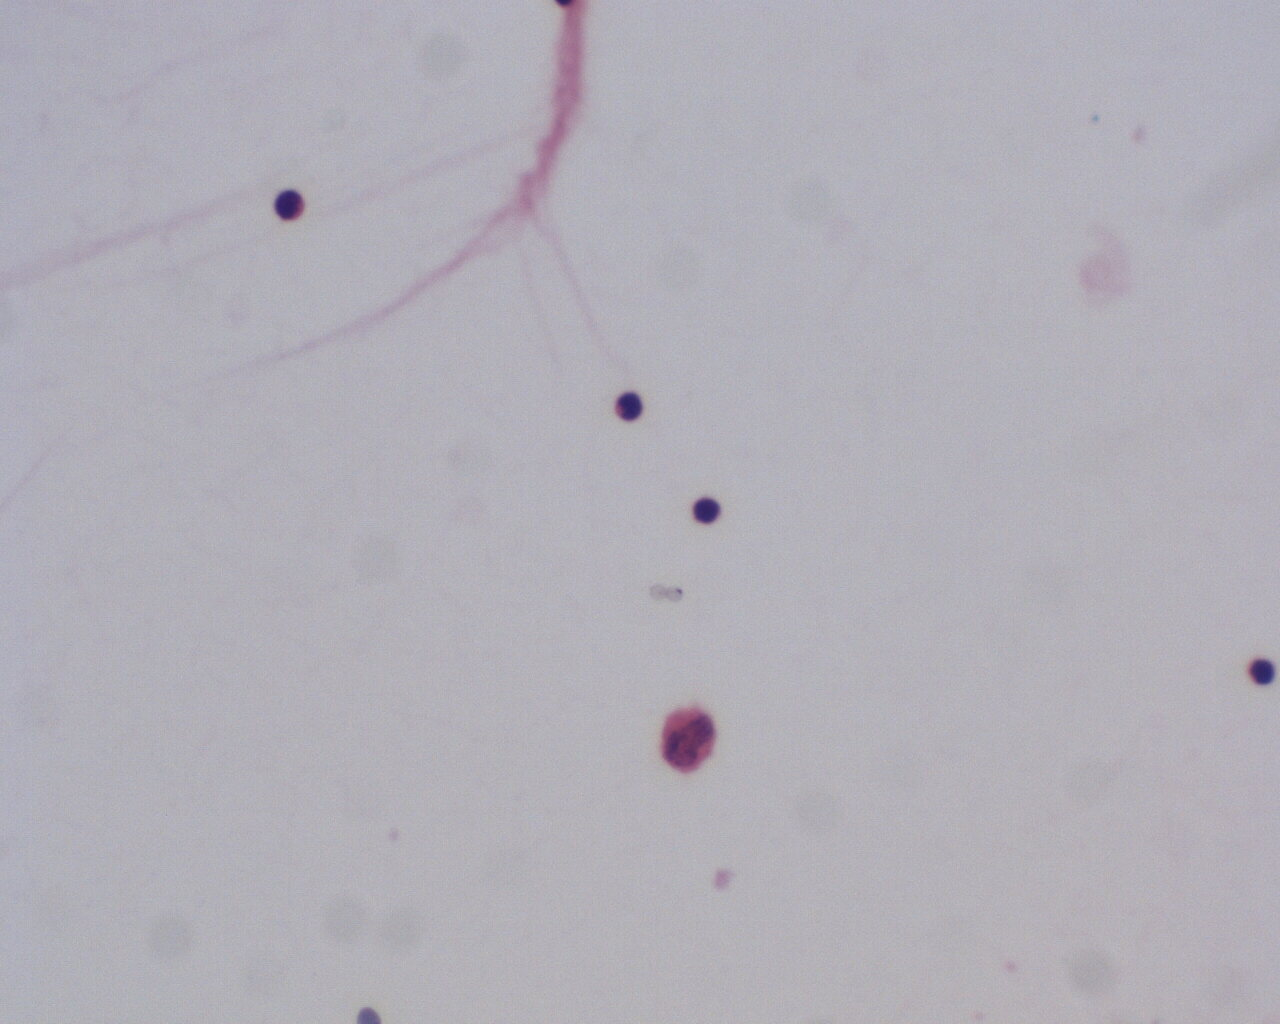ab: (658, 705, 722, 778)
lymph: (267, 187, 310, 223), (611, 391, 648, 425), (686, 497, 724, 527)
